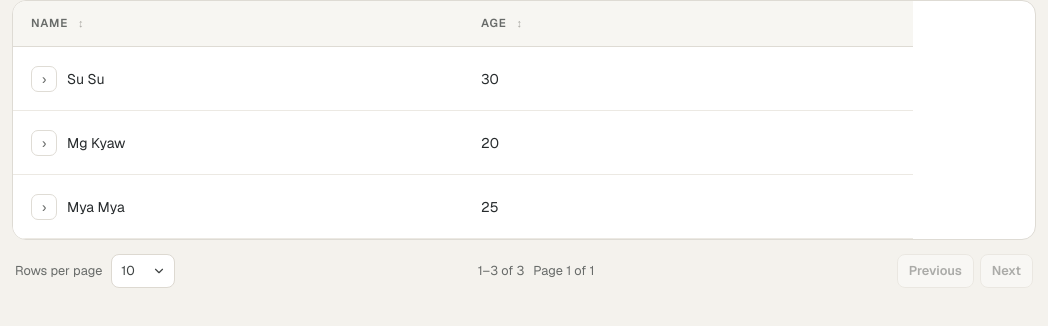
Test: DataTable › shows inline expansion content immediately
The image size is (1048, 326).
Click the button named "expand row". click: (44, 78)
box: left=31, top=66, right=57, bottom=92
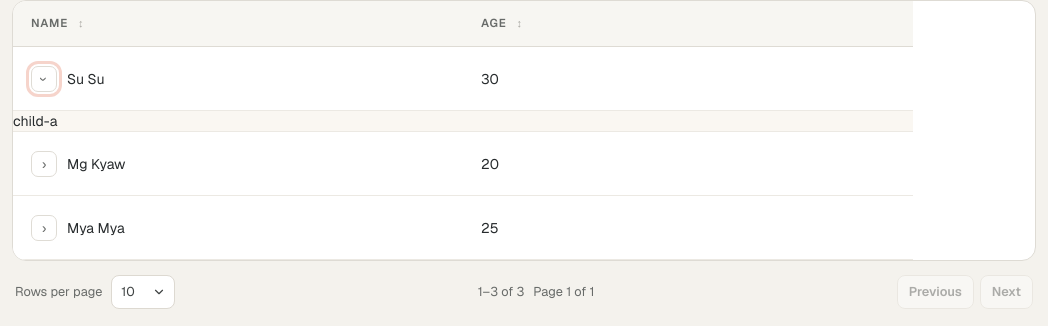
Expected: the text "child-a" is shown, left=13, top=112, right=57, bottom=130
